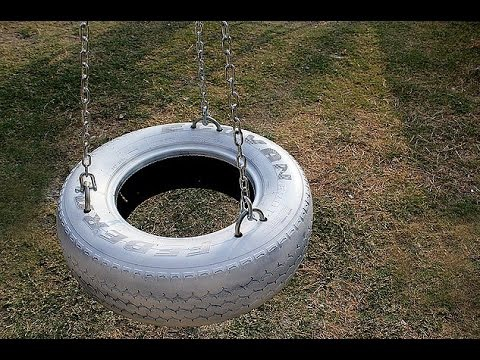tire: (50, 118, 316, 320)
